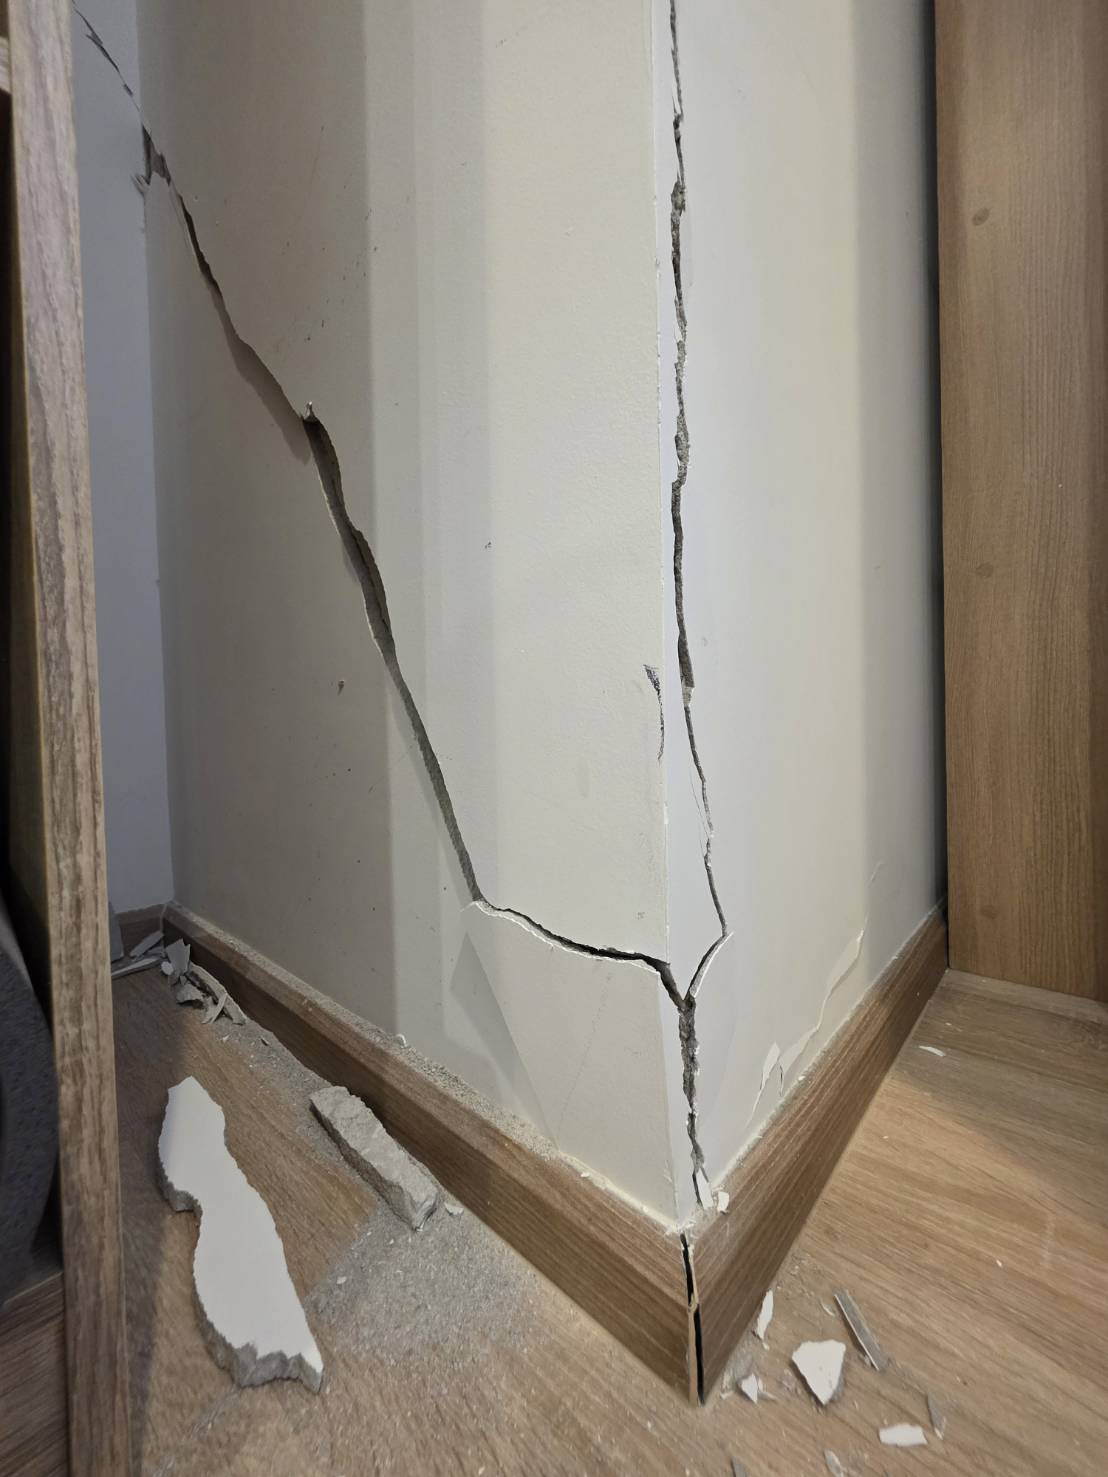High: (73, 7, 734, 1411)
